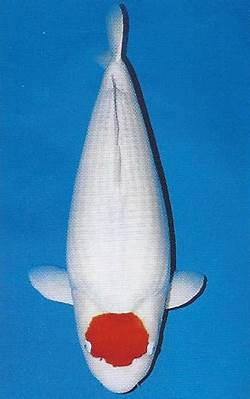sun: (29, 4, 205, 393)
